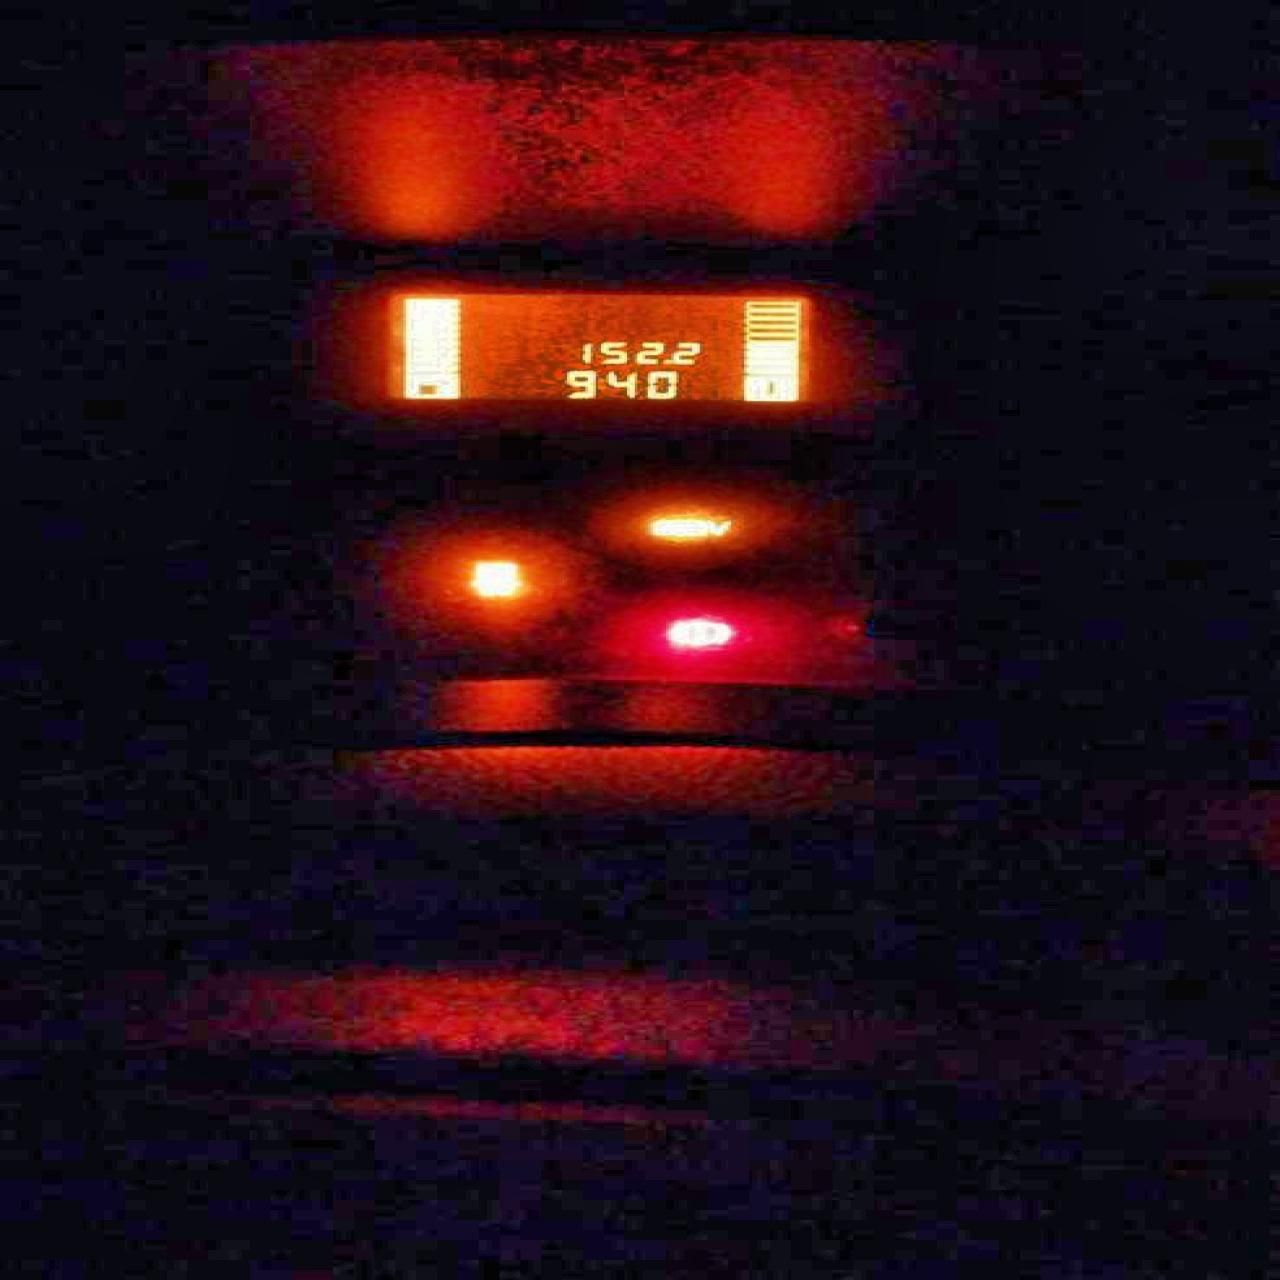-: (661, 356, 672, 365)
0: (642, 369, 679, 400)
1: (578, 339, 593, 365)
2: (672, 340, 700, 365), (635, 339, 661, 363)
4: (604, 369, 638, 399)
5: (595, 338, 627, 365)
9: (559, 366, 595, 400)
odometer: (365, 290, 819, 406)
